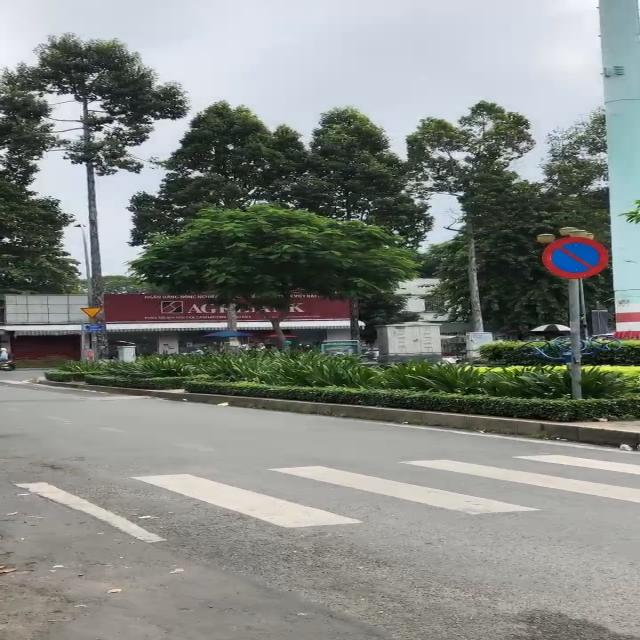Bien bao cam do xe: (534, 235, 611, 280)
Bien bao giao nhau voi duong uu tien: (80, 306, 107, 319)
